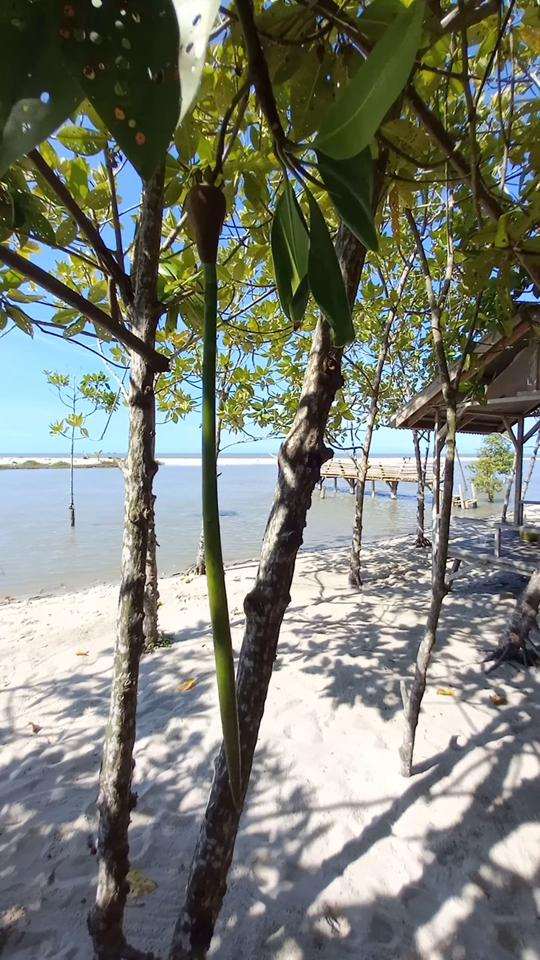setengah matang: (175, 153, 254, 823)
